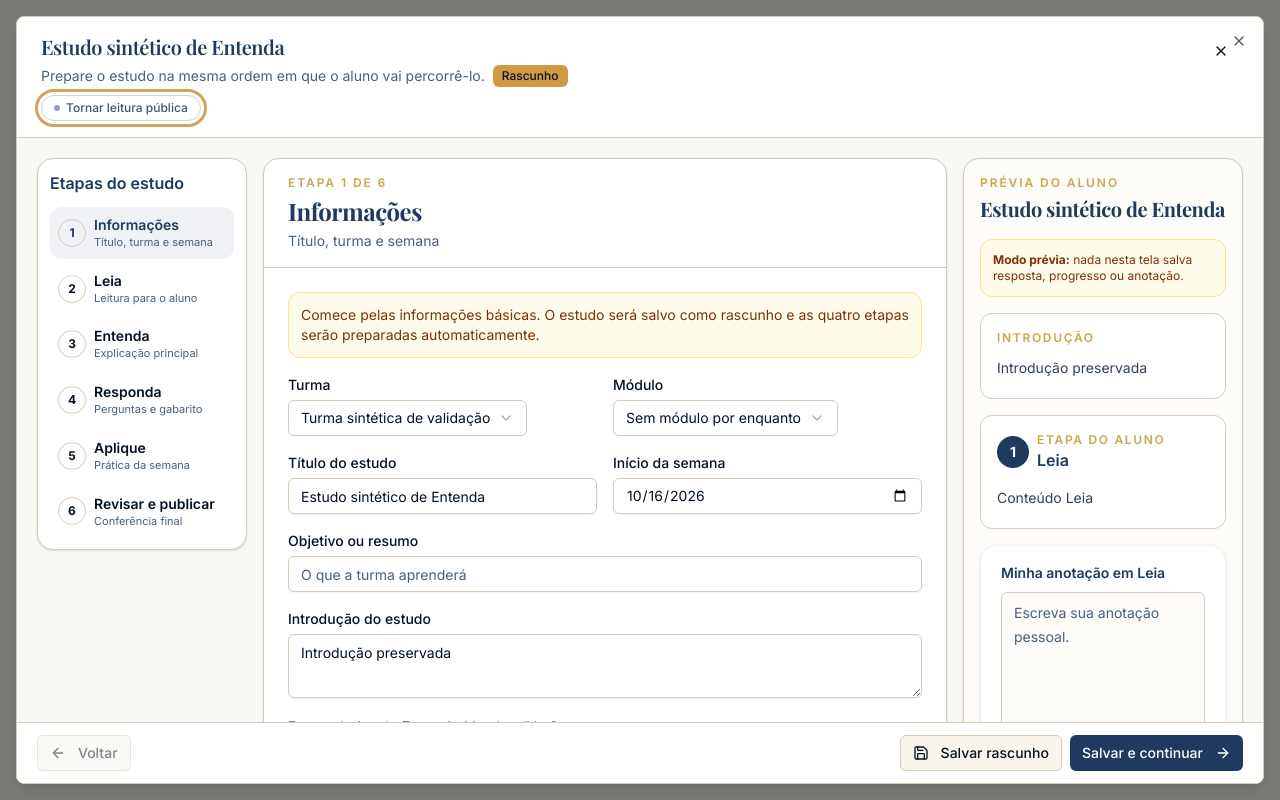
Test: Fase 4 — Responda, Aplique e revisão, com API simulada › preserva as perguntas e IDs antigos e ordena orientação, perguntas e Para refletir
Click the button "4 Responda Perguntas e gabarito" at point(142, 400), box 50,374 -> 234,426
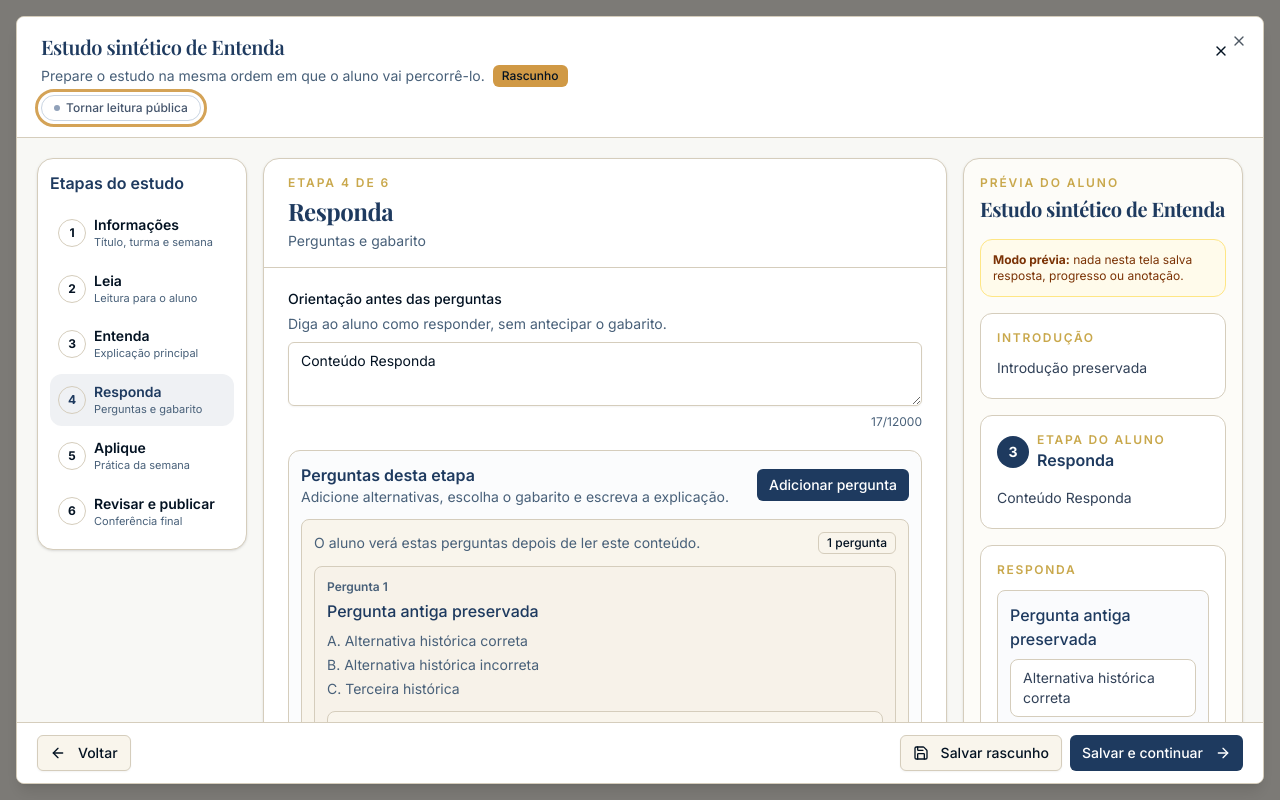
Expected: the list item "C. Terceira histórica" is shown, 327,680 -> 460,697
